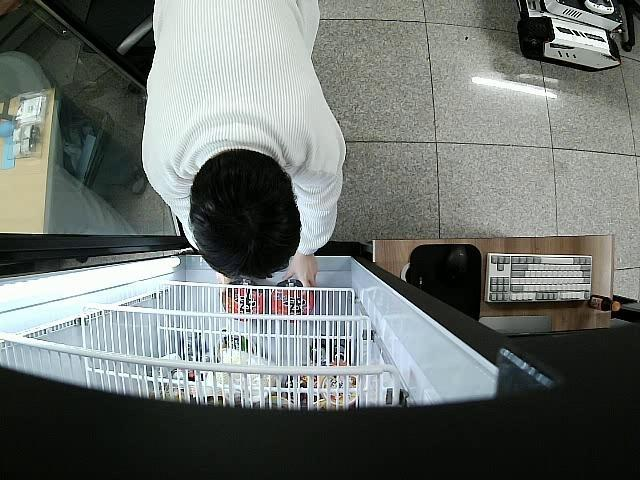01_ShinRamen_L: (271, 280, 315, 319)
